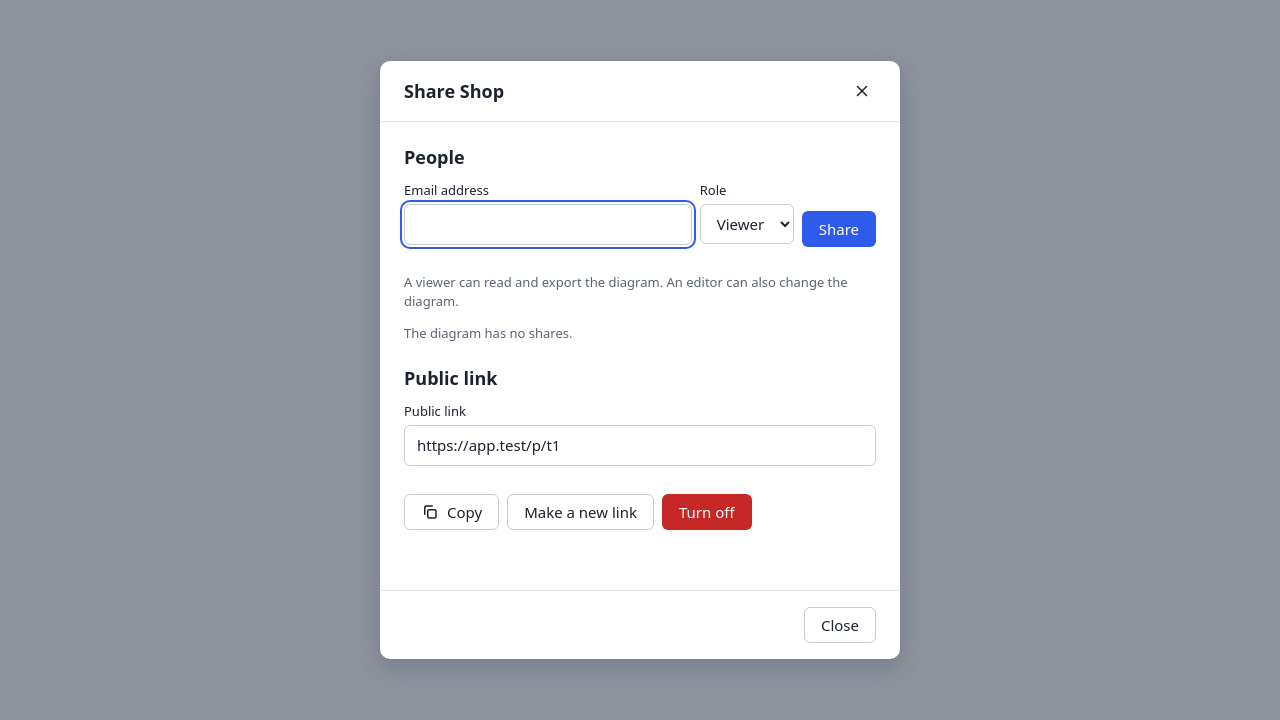
Scenario: shares (spec) › SHR-003 a new link replaces the old URL
Expected: the field showing "https://app.test/p/t1" is shown, [404,425,876,466]
Click the button "Make a new link" at (581, 512), box [507,494,654,530]
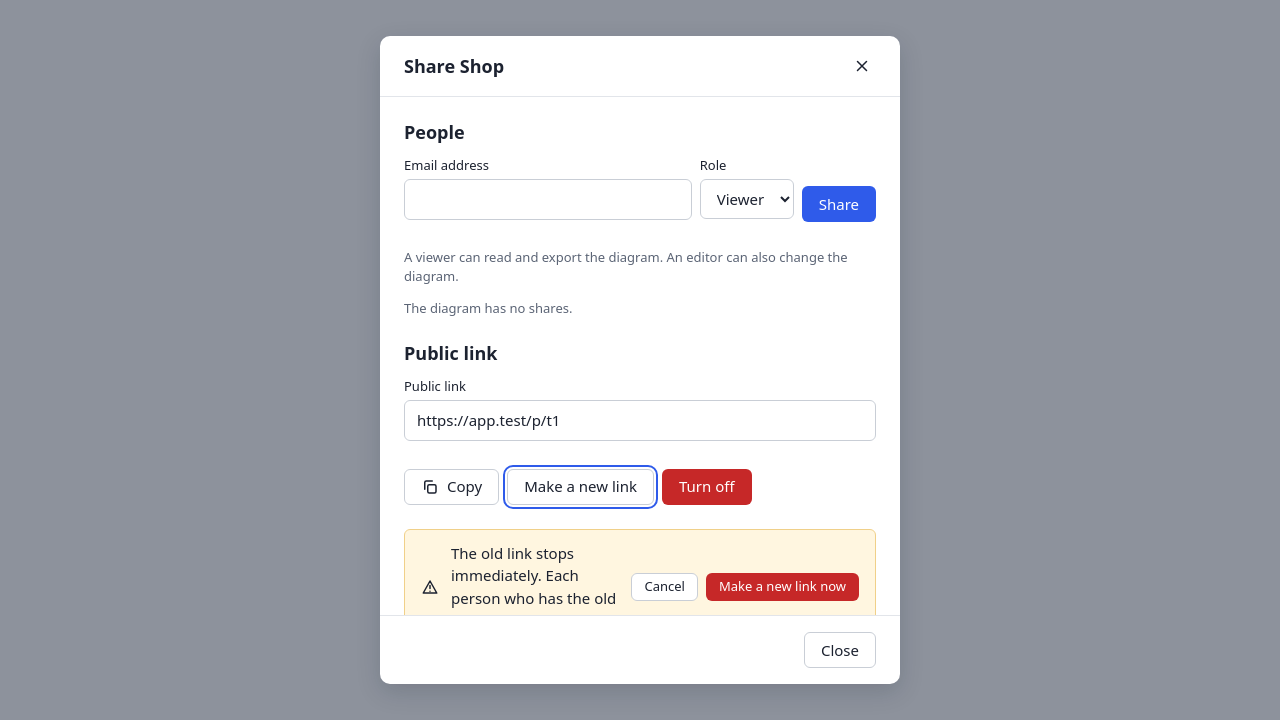
Expected: the text "The old link stops immediately. Each person who has the old link loses access." is shown, [451,542,620,615]
Click the button "Make a new link now" at (782, 586), box [706,572,859,600]
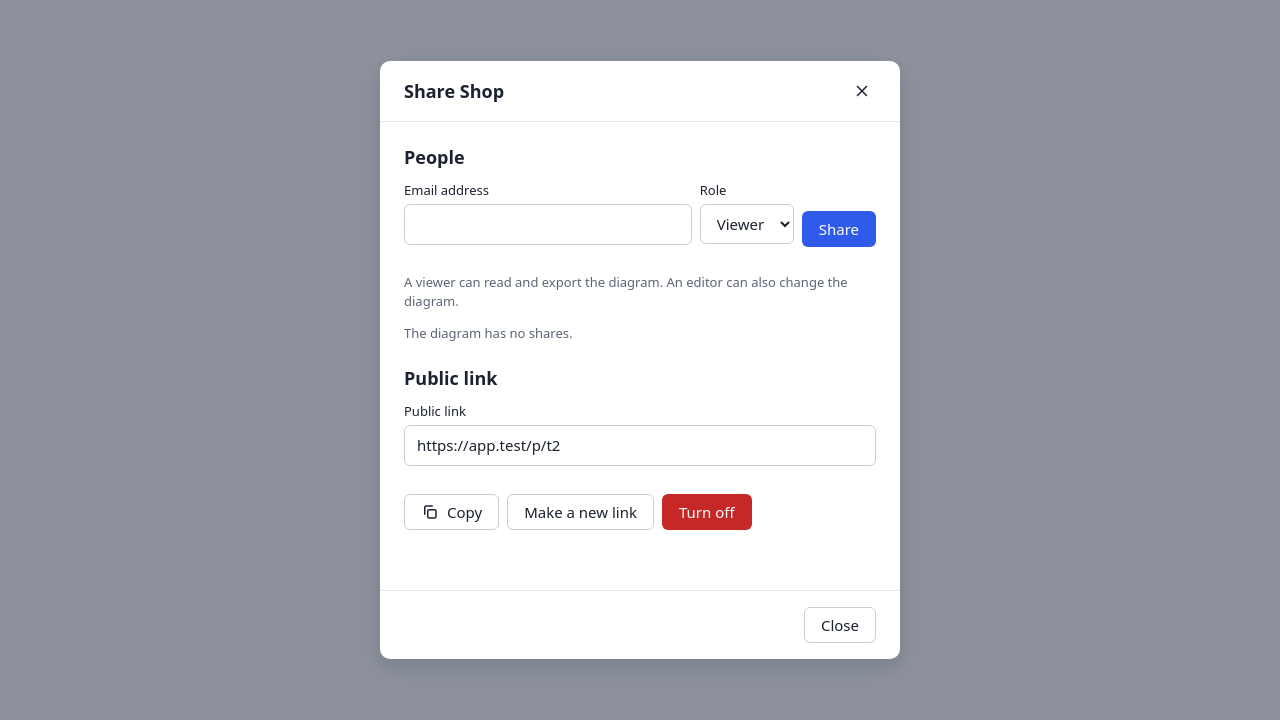
Expected: the field showing "https://app.test/p/t1" is not shown
Expected: the field showing "https://app.test/p/t2" is shown, [404,425,876,466]
